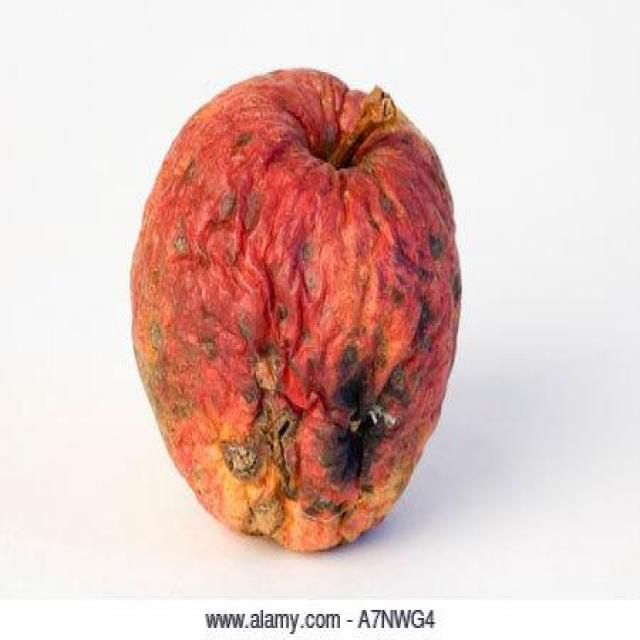Rotten: (140, 80, 464, 549)
